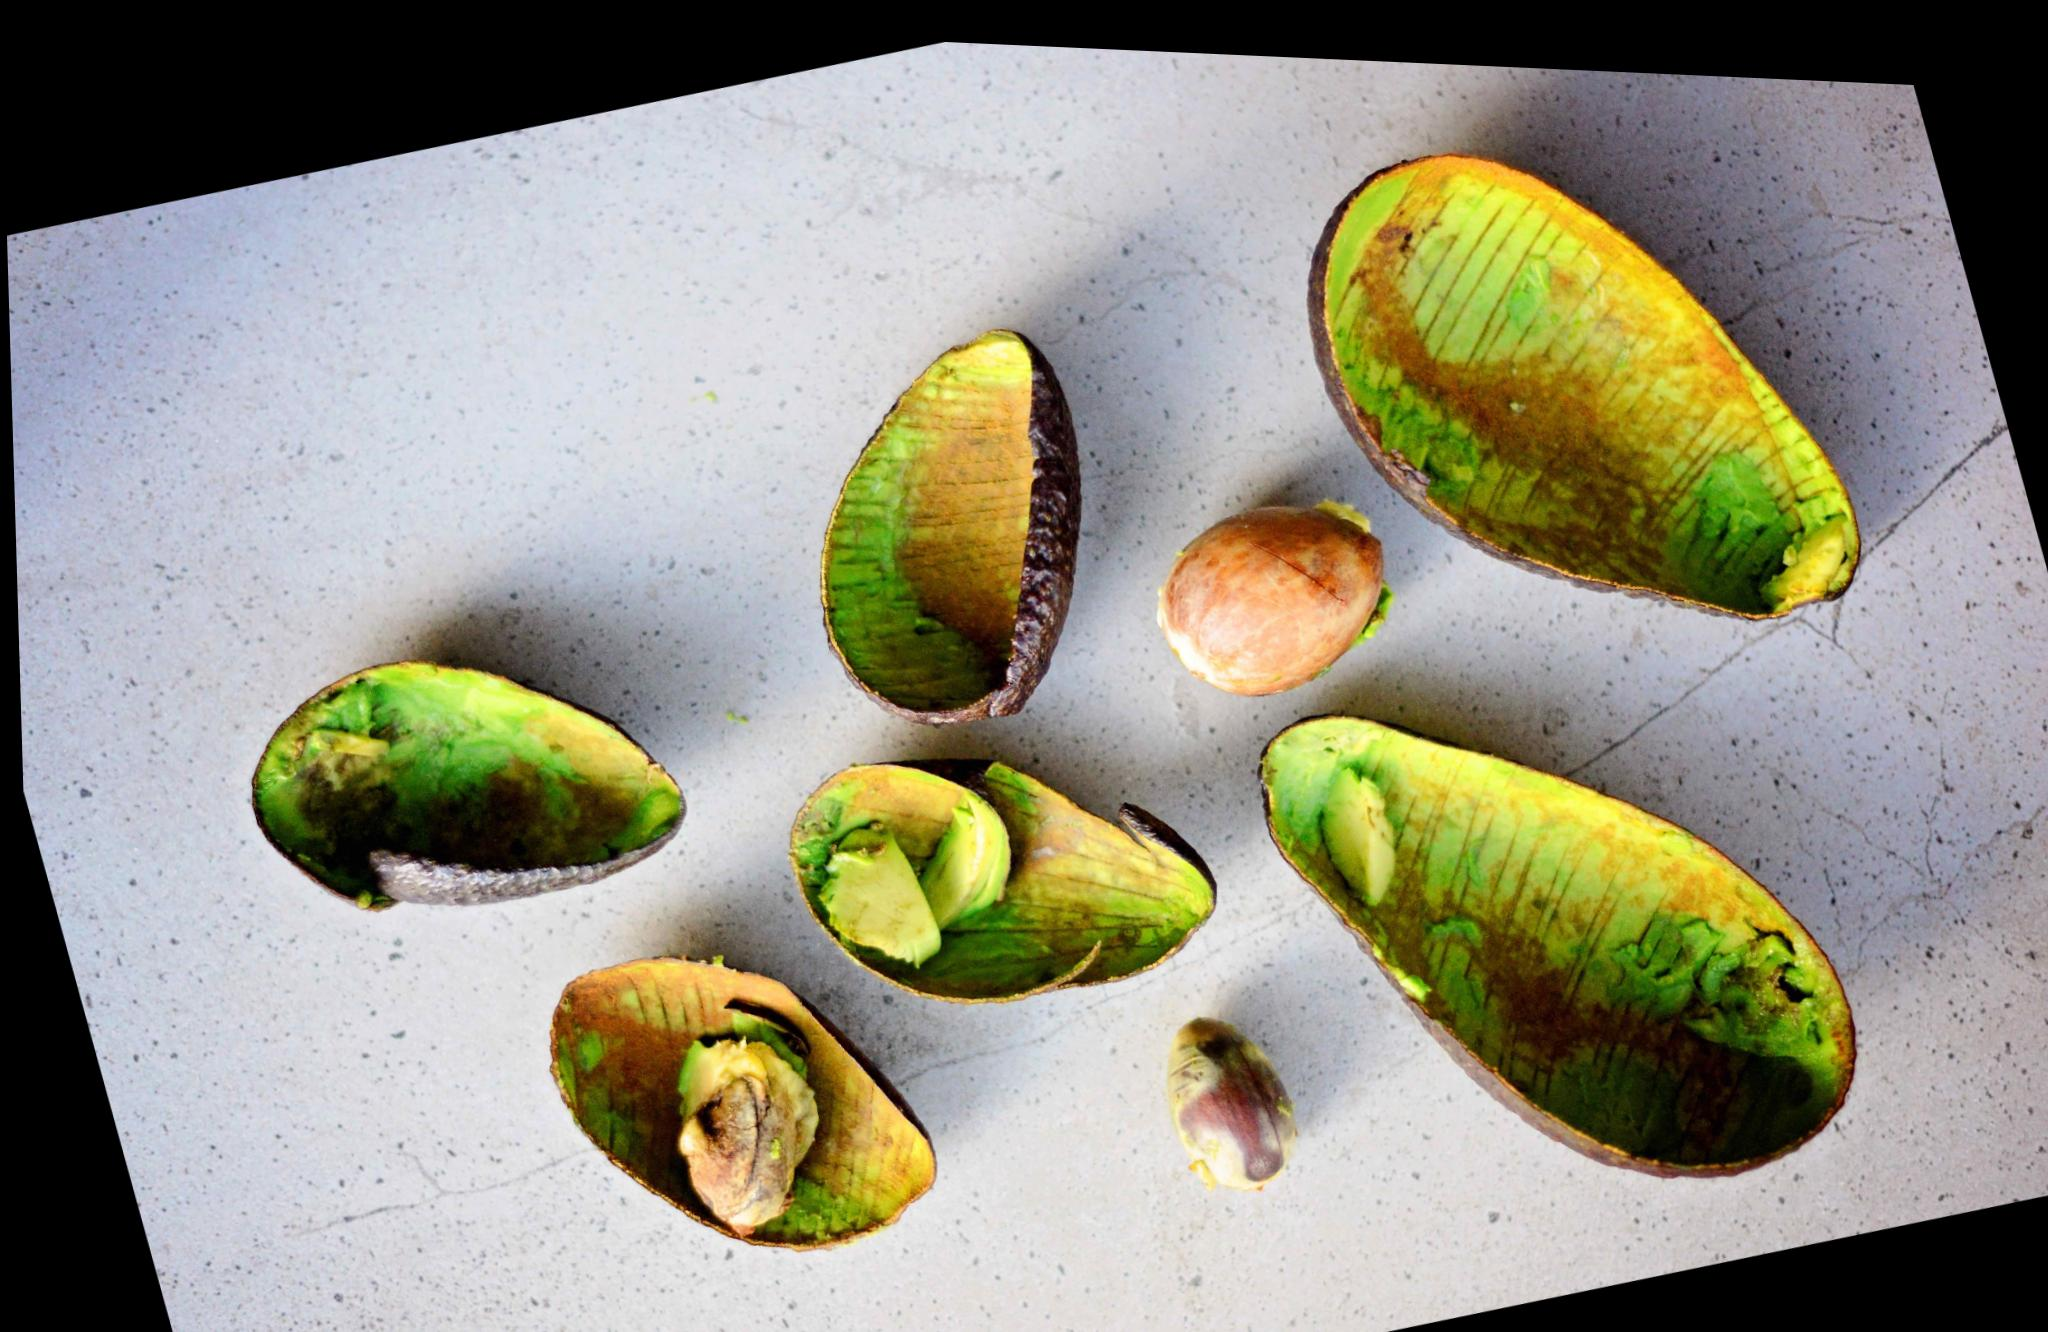organic: (1261, 718, 1852, 1178), (1311, 155, 1858, 617), (551, 962, 933, 1250), (252, 665, 682, 909), (822, 332, 1081, 726), (793, 765, 1214, 1002), (1161, 502, 1391, 694)
